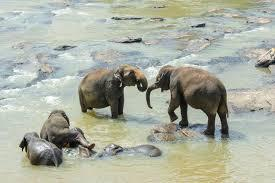elephant: (78, 65, 228, 135), (19, 110, 95, 166), (119, 144, 160, 156)
